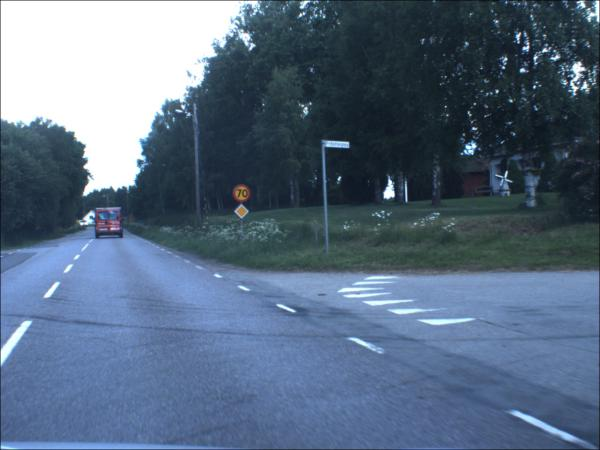70_SIGN: (234, 186, 253, 205), (235, 205, 252, 221)
